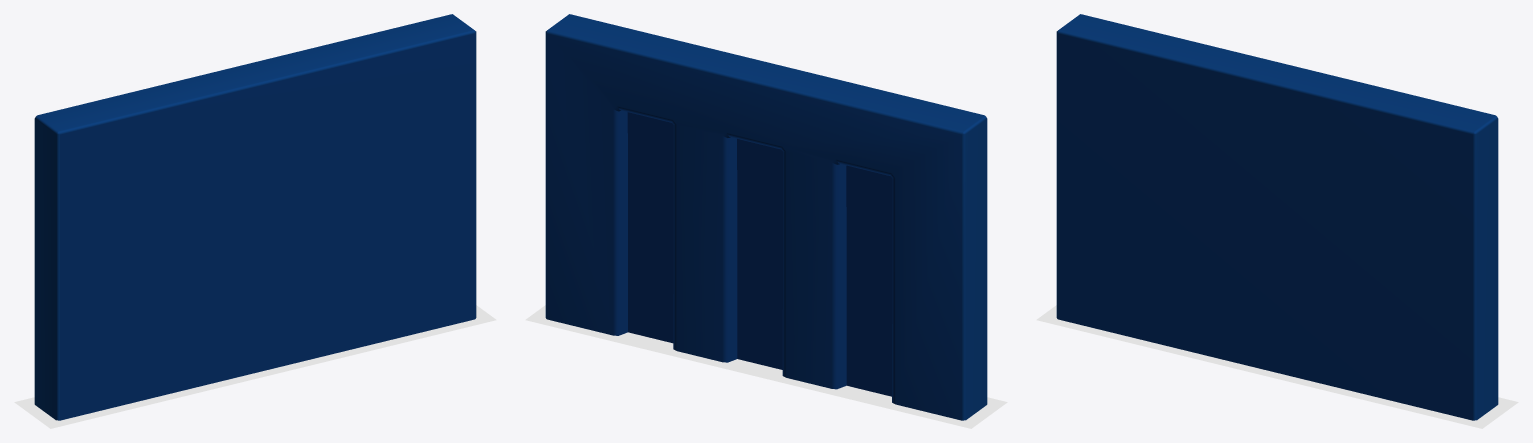
The model's file is Ground_Gate.fbx.
The picture shows the model from 3 angles, left to right: view 1: azimuth 30°, elevation 25°; view 2: azimuth 150°, elevation 25°; view 3: azimuth 330°, elevation 25°; orthographic projection.
Visible parts, largest first — view 1: Door_Blue, Part; view 2: Door_Blue, Part; view 3: Door_Blue, Part.
Boxes of the visible parts, <box> form: Door_Blue: <box>34,14,476,420</box>; Part: <box>14,305,496,428</box>; Door_Blue: <box>545,14,987,420</box>; Part: <box>525,305,1007,428</box>; Door_Blue: <box>1056,14,1498,420</box>; Part: <box>1036,305,1518,428</box>.
Size of the model in its own units: 949 by 590 by 135.
